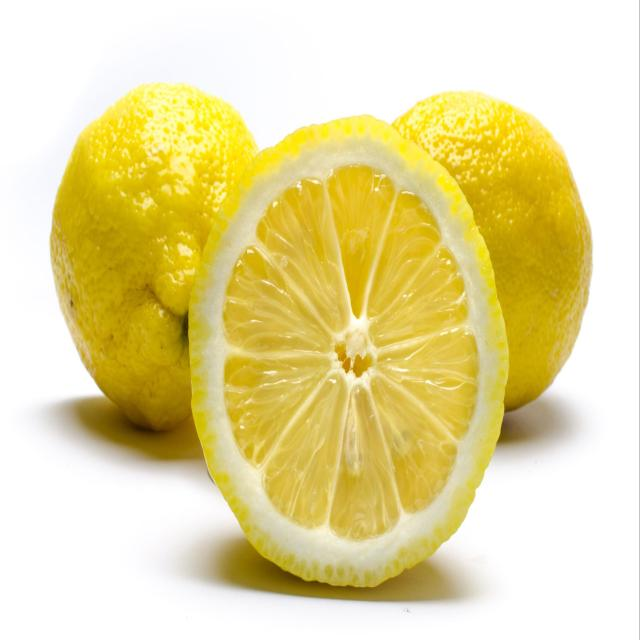lemon: (183, 107, 514, 602)
